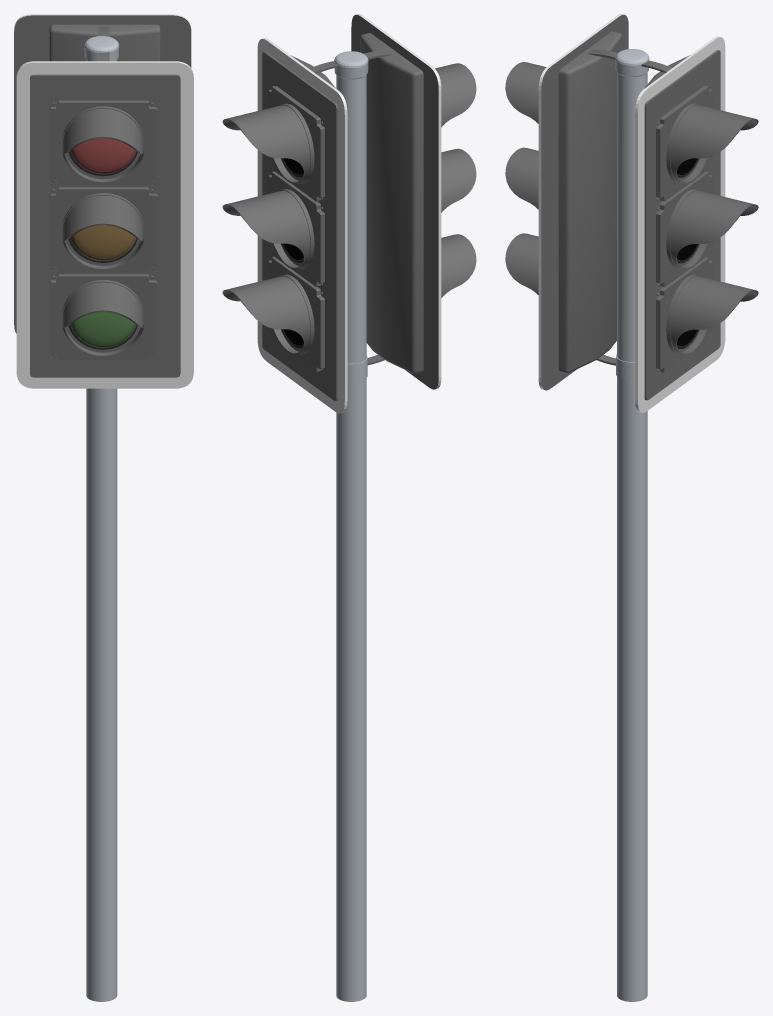
File: traffic light FBX_temlpate.FBX
3 views of the same model, side by side, from view 1: azimuth 30°, elevation 25°; view 2: azimuth 150°, elevation 25°; view 3: azimuth 270°, elevation 25° (orthographic).
Visible parts, largest first — view 1: ALL LIGHTSQ; view 2: ALL LIGHTSQ; view 3: ALL LIGHTSQ.
Part boxes in pixels (<box>): ALL LIGHTSQ: <box>14,14,193,1001</box>; ALL LIGHTSQ: <box>222,14,476,1001</box>; ALL LIGHTSQ: <box>505,14,758,1001</box>.
Bounding box in the file's own units: 55.46 × 280 × 68.13.
